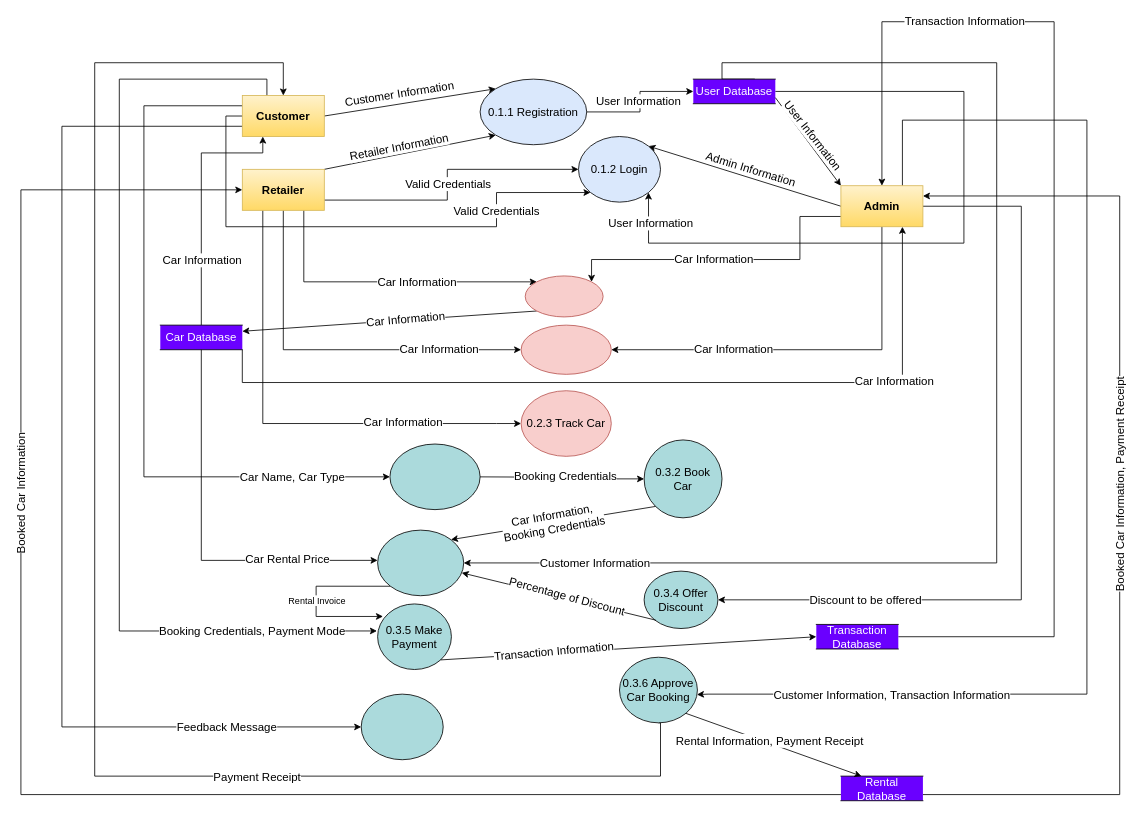
The diagram is 1141 pixels wide and 816 high, and some of its shapes have lost their labels. Each missing label, with the box of its shape:
0.2.1 Add Car: (524, 275, 603, 317)
0.2.2 Remove Car: (520, 324, 611, 374)
0.3.1 Search Car: (389, 443, 480, 510)
0.3.3 Generate Invoice: (377, 529, 464, 596)
0.3.7 Share Feedback: (360, 693, 443, 760)
